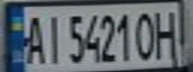1: (115, 9, 136, 62)
2: (100, 10, 118, 63)
4: (81, 10, 100, 63)
5: (63, 10, 84, 64)
A: (18, 10, 48, 65)
H: (151, 7, 181, 60)
I: (42, 10, 66, 65)
O: (133, 8, 160, 61)
